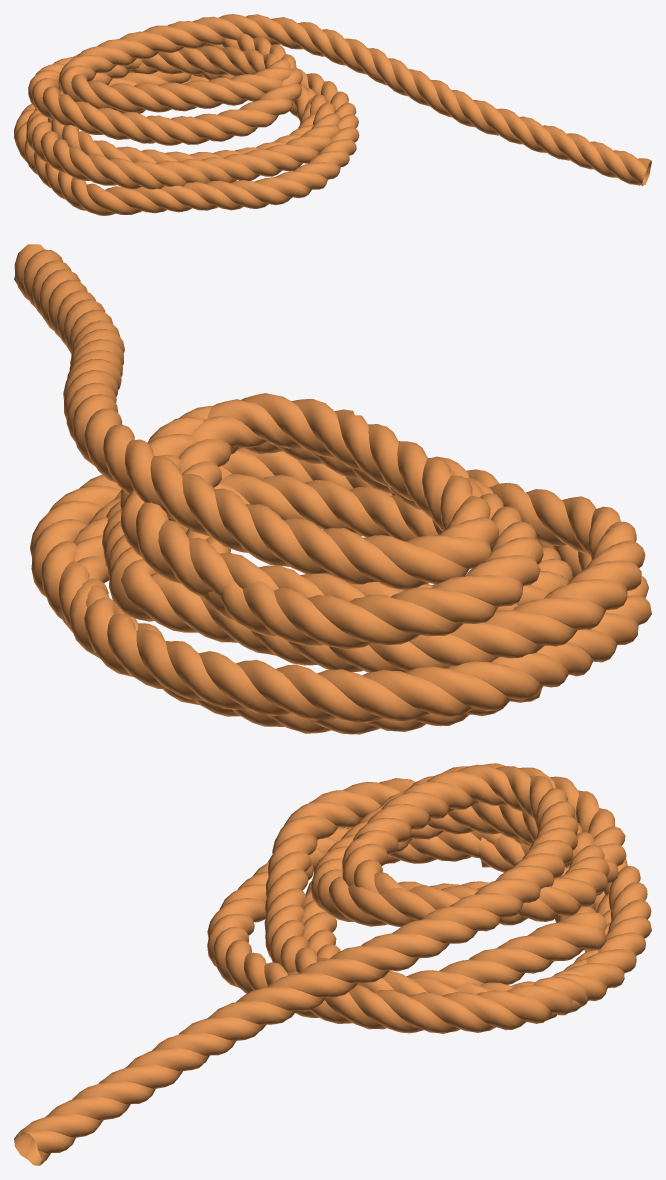
Rendered from rope.glb.
3 renders of one model, top to bottom at view 1: azimuth 30°, elevation 25°; view 2: azimuth 150°, elevation 25°; view 3: azimuth 270°, elevation 25°, orthographic. The views are drawn at different scales.
Parts seen in each view (by area): view 1: Circle.002; view 2: Circle.002; view 3: Circle.002.
Boxes of the visible parts, x1=… form: Circle.002: x1=14, y1=14, x2=651, y2=215; Circle.002: x1=14, y1=244, x2=651, y2=734; Circle.002: x1=14, y1=763, x2=651, y2=1165.
Bounding box in the file's own units: 3.74 × 0.7996 × 3.14.
